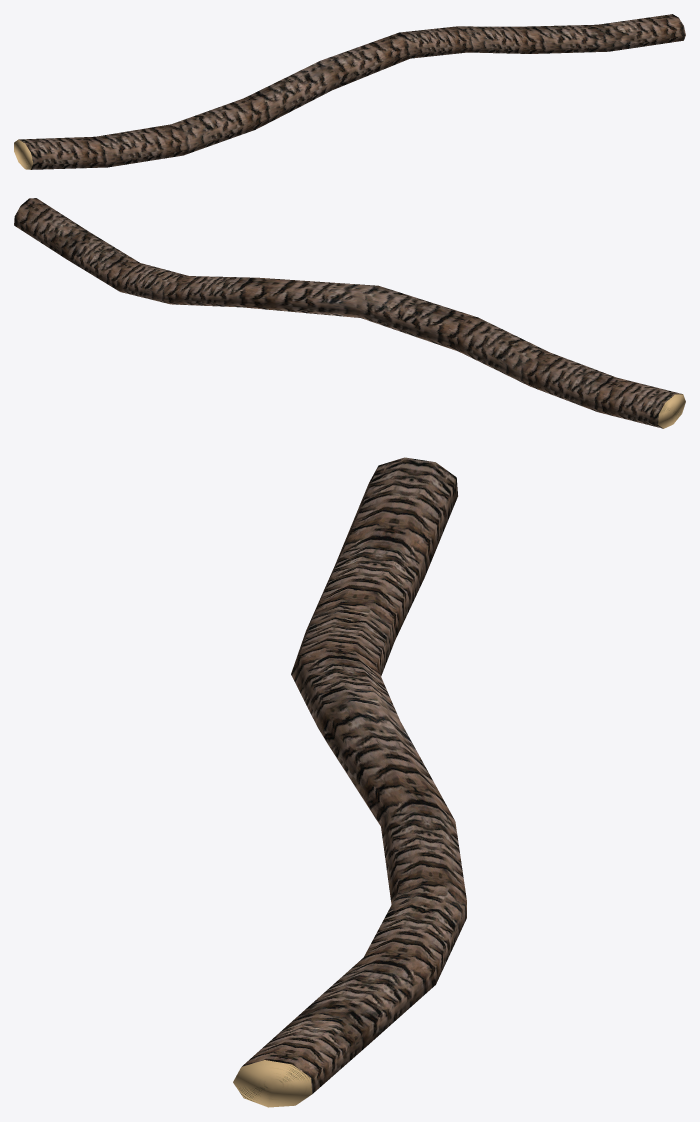
Rendered from PalmTwistShape7.dae.
3 views of the same model, one above another, from view 1: azimuth 30°, elevation 25°; view 2: azimuth 150°, elevation 25°; view 3: azimuth 270°, elevation 25° (orthographic). The views are drawn at different scales.
Parts seen in each view (by area): view 1: PalmTwist7; view 2: PalmTwist7; view 3: PalmTwist7.
Part boxes in pixels (x1,y1,x2,y2): PalmTwist7: [14, 14, 685, 169]; PalmTwist7: [14, 198, 685, 428]; PalmTwist7: [233, 457, 466, 1107].
Size of the model in its own units: 164 by 13.33 by 26.75.
